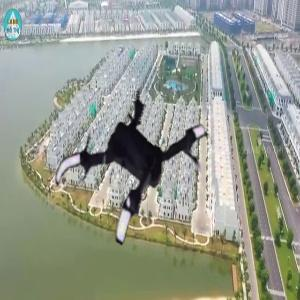drone: (51, 72, 229, 250)
